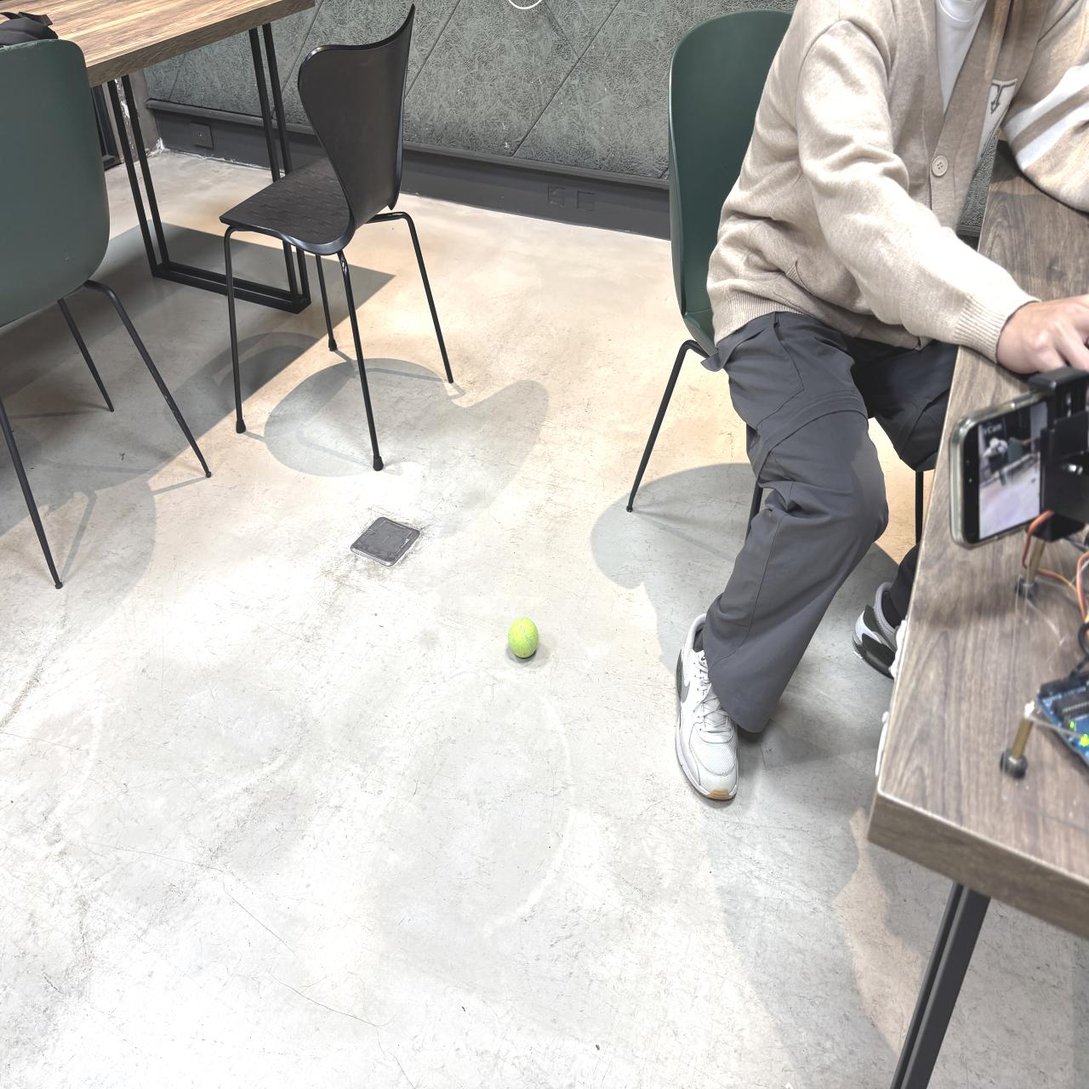tennisball: (508, 618, 539, 659)
